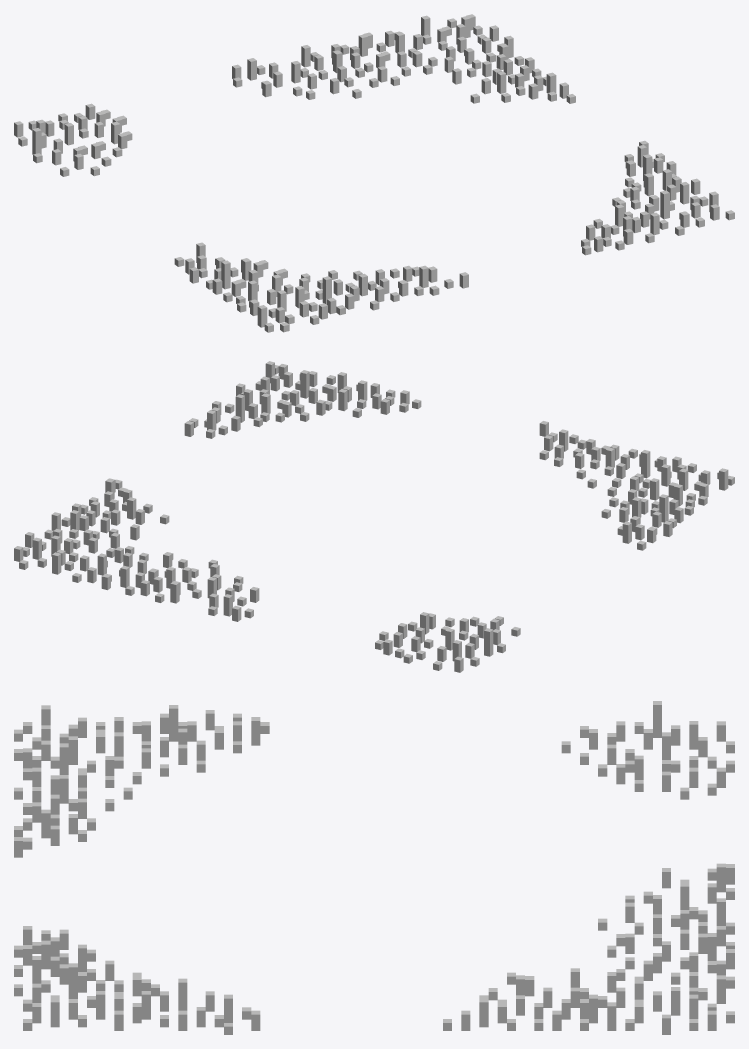
The model's file is snow_3_overtile.obj.
3 renders of one model, top to bottom at view 1: azimuth 30°, elevation 25°; view 2: azimuth 150°, elevation 25°; view 3: azimuth 270°, elevation 25°, orthographic. The views are drawn at different scales.
Bounding box in the file's own units: 8 × 0.4 × 7.9.
Materials: 1 (1 with a texture image).
